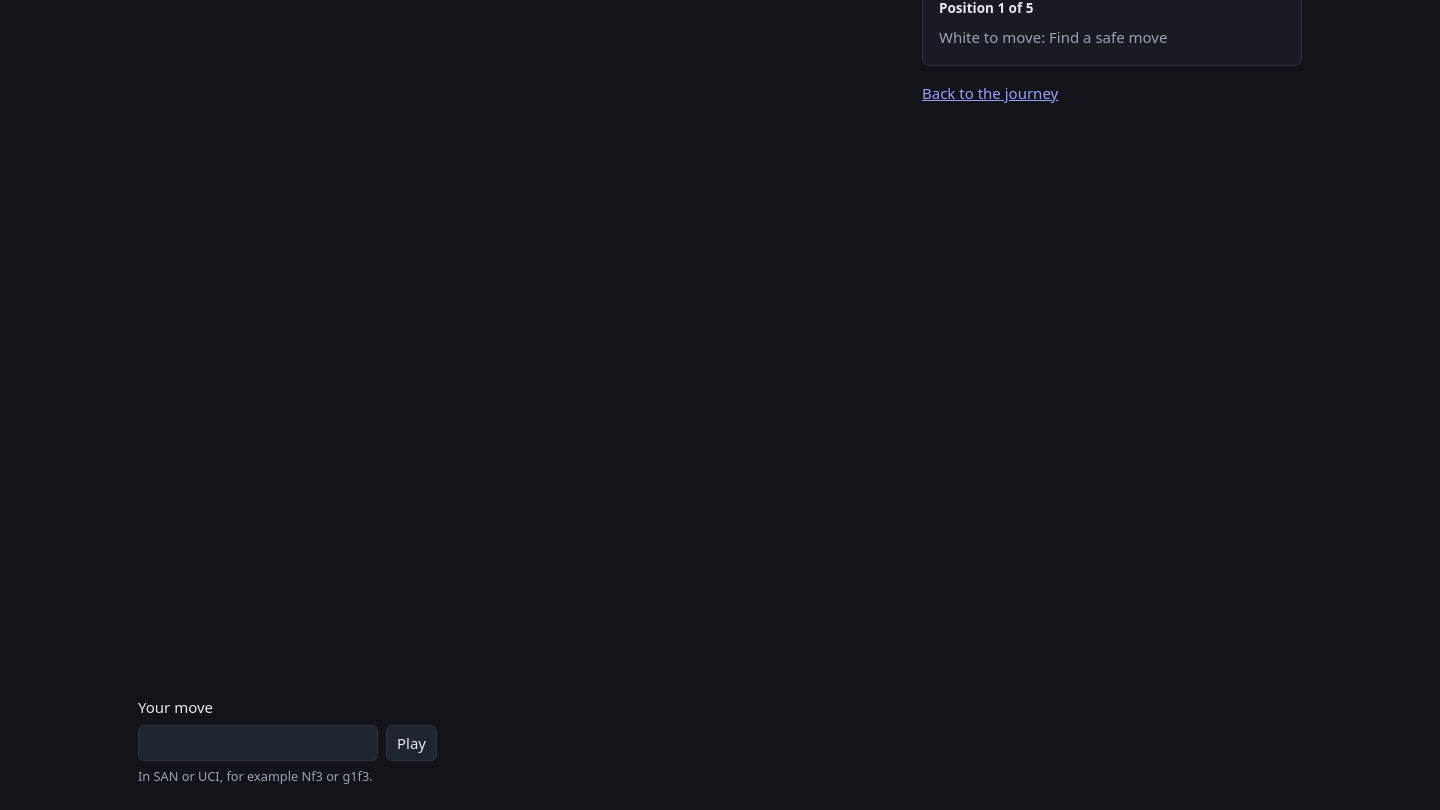
it: Errors while answering › a puzzle a re-analysis removed (404) says so and reloads
The image size is (1440, 810).
(page scrolled)
Type "Nxd4" into the field labelled "Your move".
click(258, 743); type("Nxd4")  # box 138,724 -> 378,761
Then press Enter
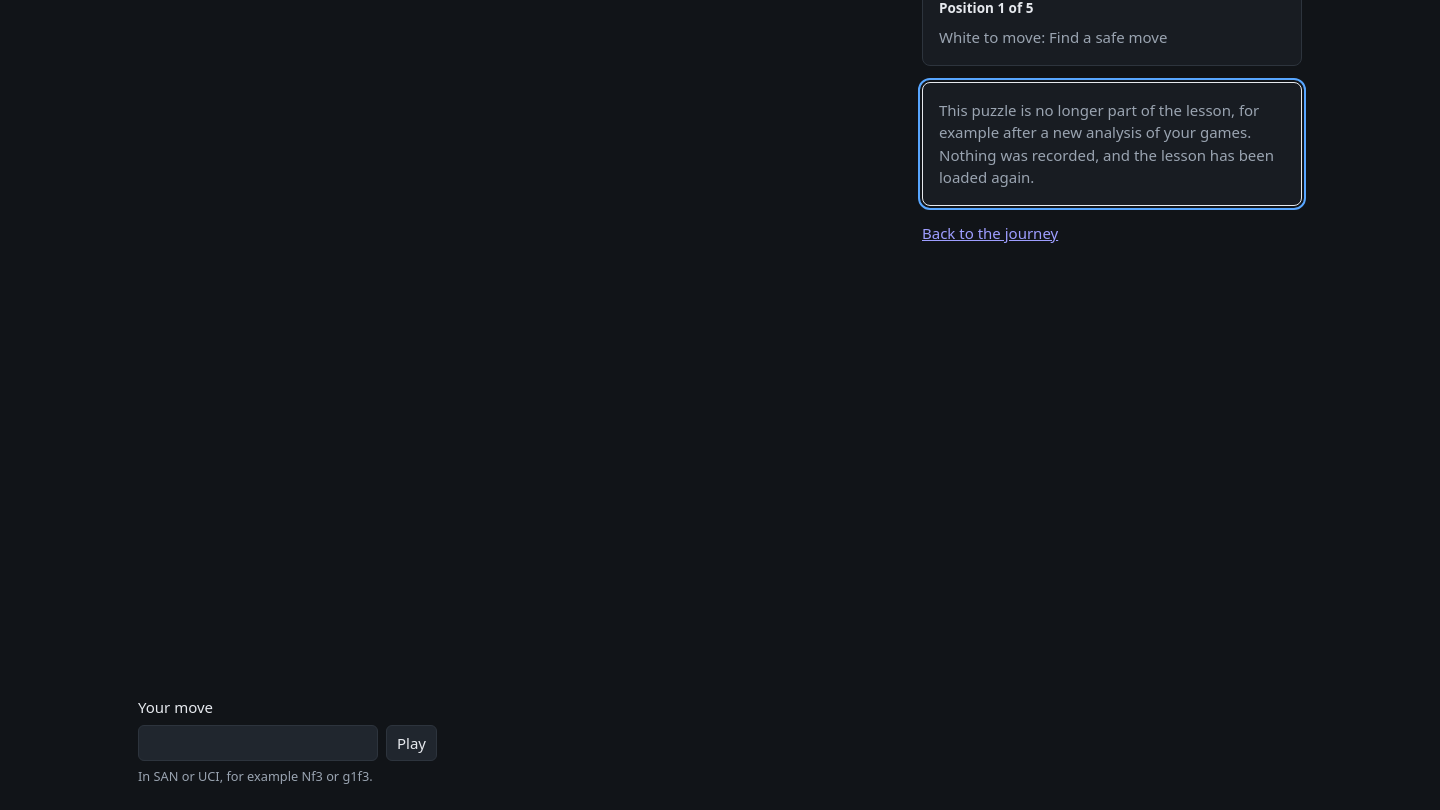
Expected: the element named "Notice" shows "This puzzle is no longer part of the lesson", 939,100 -> 1274,187
